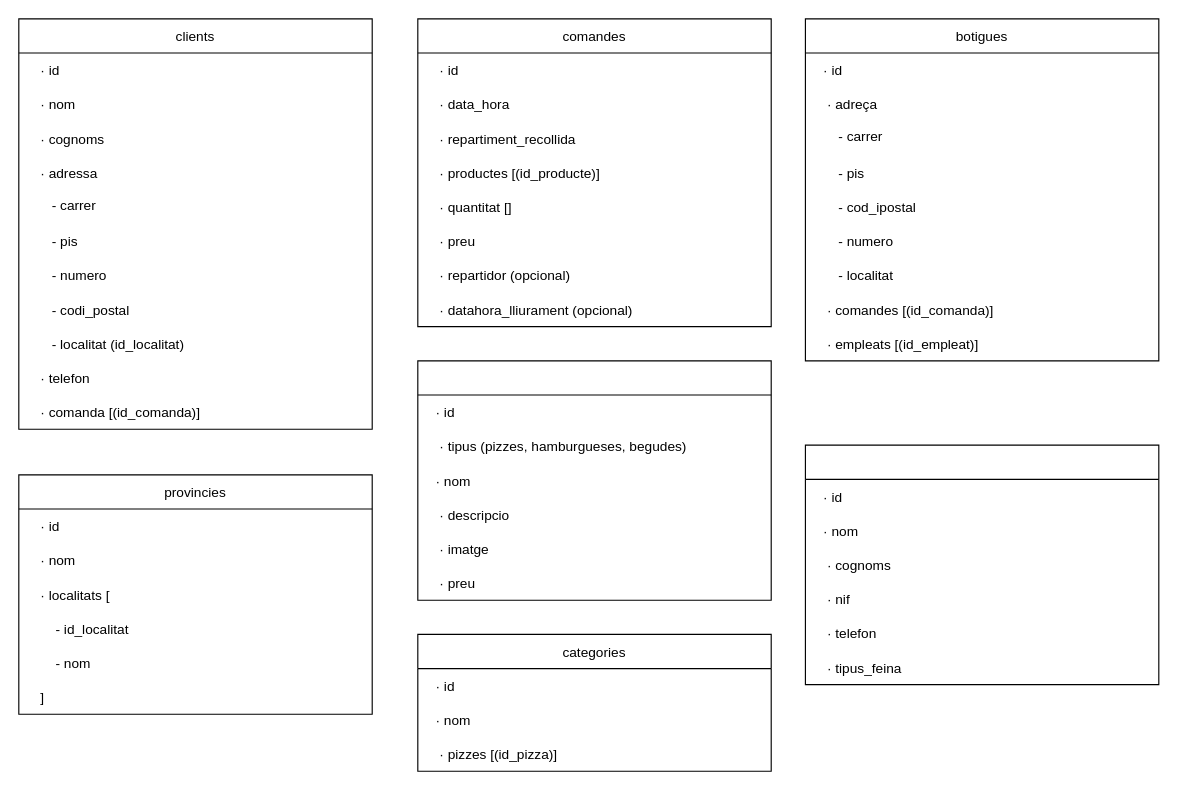
Image size: 1178x790. Some labels were removed from this diagram. Each missing label, with the box of its shape:
empleats: (804, 444, 1159, 685)
productes: (417, 360, 771, 600)
